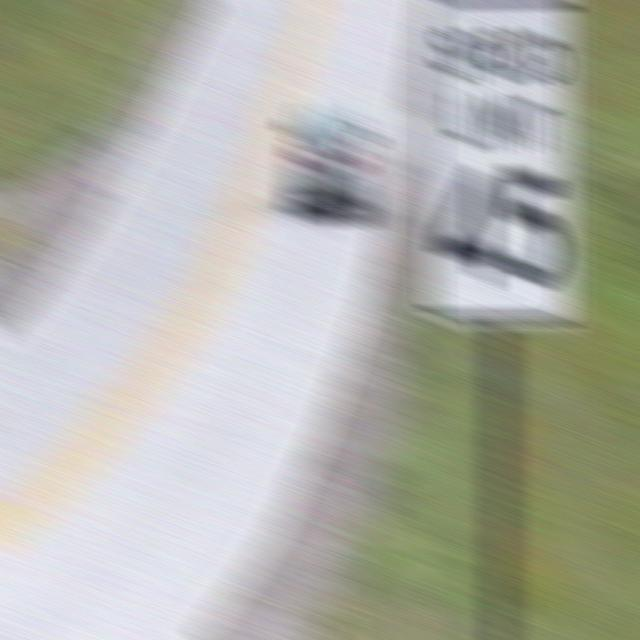speedLimit45: (425, 4, 575, 328)
